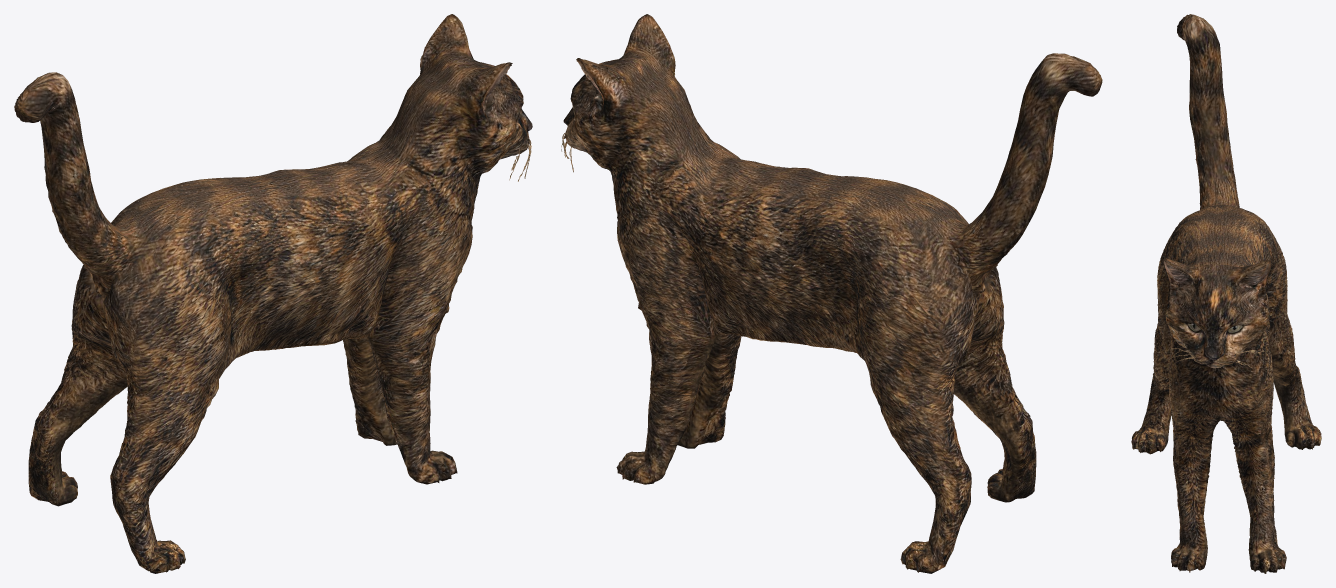
File: OLDFLOSSIE.glb
The picture shows the model from 3 angles, left to right: view 1: azimuth 30°, elevation 25°; view 2: azimuth 150°, elevation 25°; view 3: azimuth 270°, elevation 25°; orthographic projection. The views are drawn at different scales.
Visible parts, largest first — view 1: tripo_node_242e336e-32c9-49c4-9082-719708cbf465; view 2: tripo_node_242e336e-32c9-49c4-9082-719708cbf465; view 3: tripo_node_242e336e-32c9-49c4-9082-719708cbf465.
Part boxes in pixels (<box>): tripo_node_242e336e-32c9-49c4-9082-719708cbf465: <box>14,14,532,573</box>; tripo_node_242e336e-32c9-49c4-9082-719708cbf465: <box>561,14,1102,573</box>; tripo_node_242e336e-32c9-49c4-9082-719708cbf465: <box>1131,14,1321,573</box>.
Size of the model in its own units: 1.13 by 0.9987 by 0.4338.
1 material, 1 textured.
